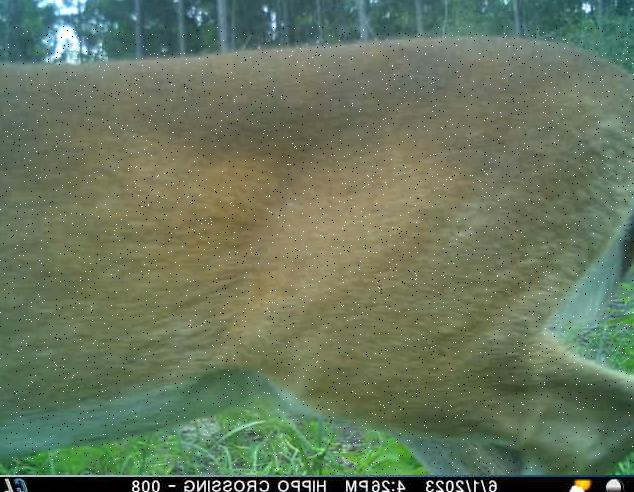Deer: (0, 26, 634, 474)
